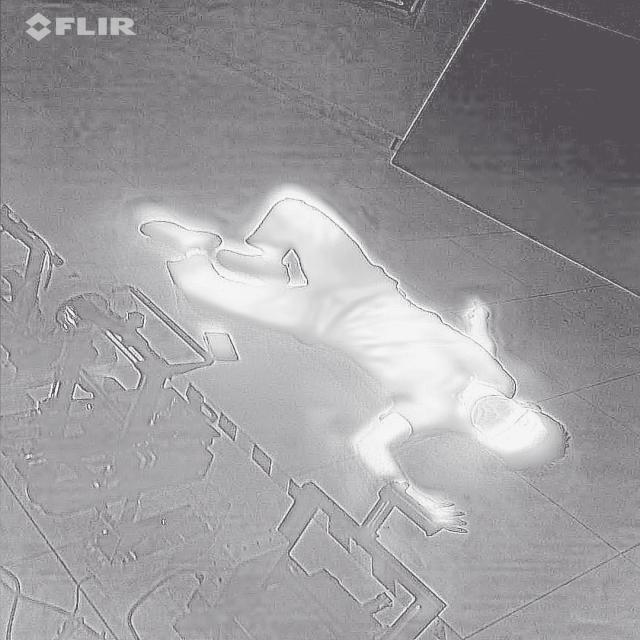Victim: (132, 184, 575, 555)
